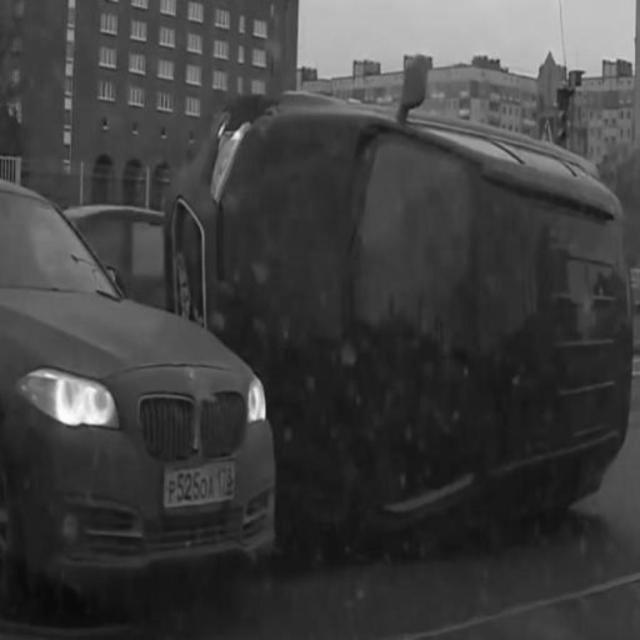accident: (2, 101, 626, 587)
